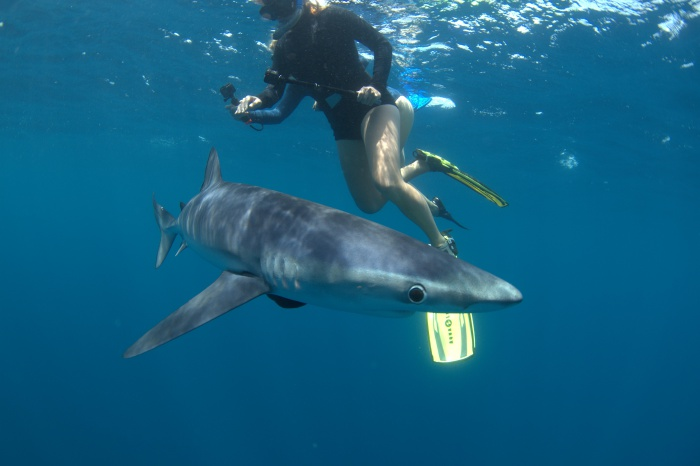Azul: (126, 131, 557, 426)
